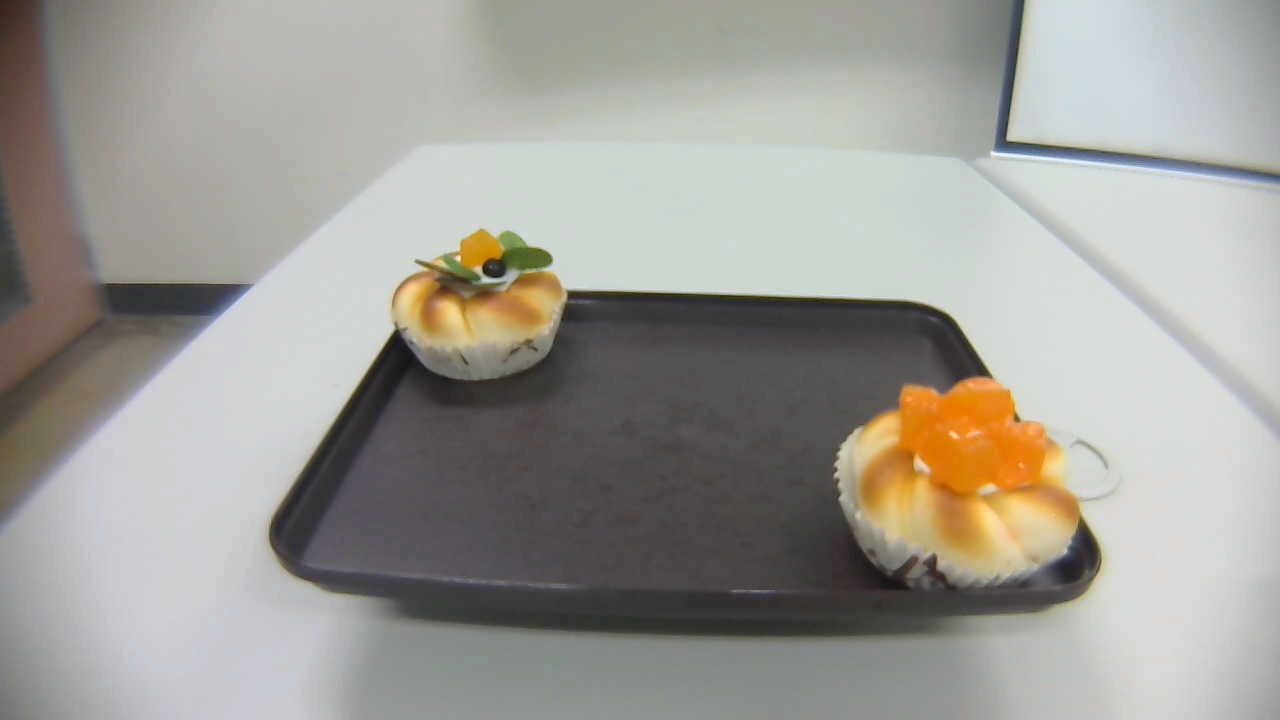fruit tart: (390, 225, 569, 381)
mango tart: (834, 376, 1084, 597)
